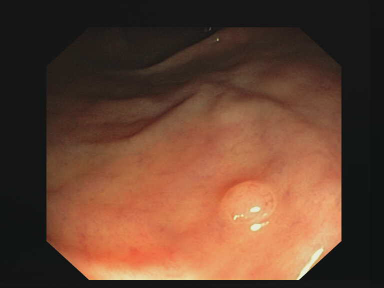polyp: (191, 168, 295, 240)
